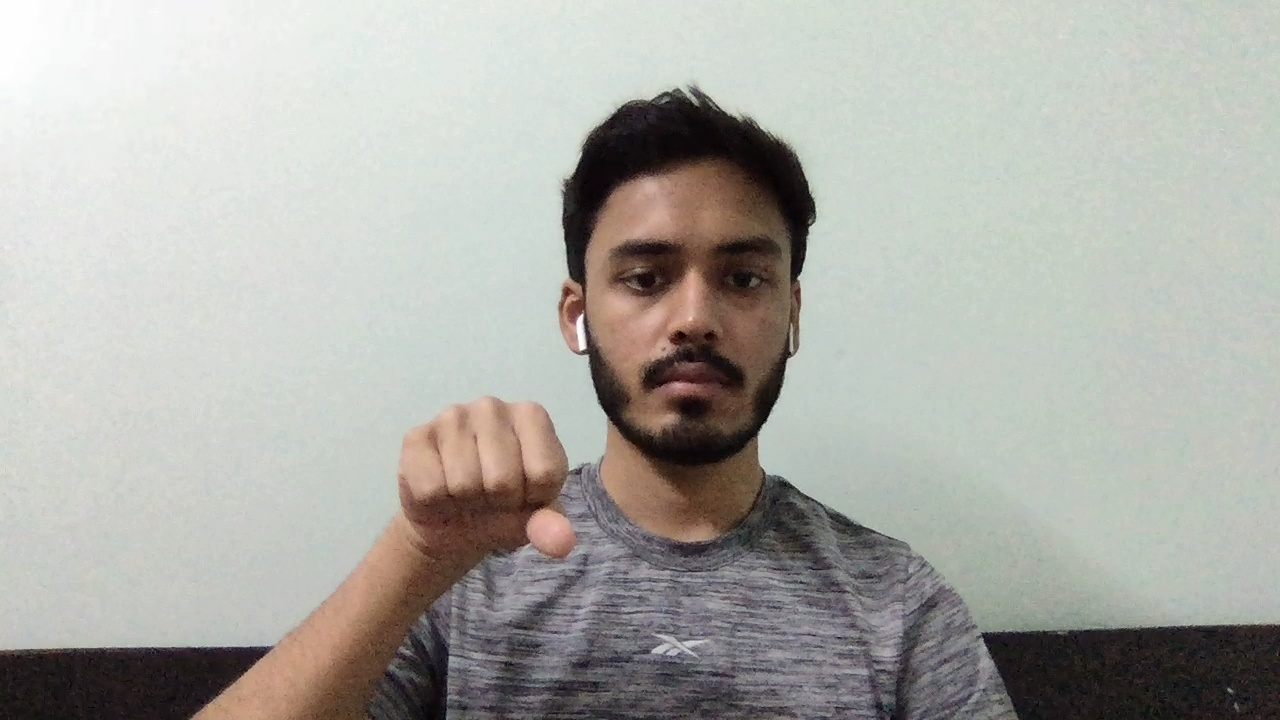Yes: (367, 380, 596, 590)
